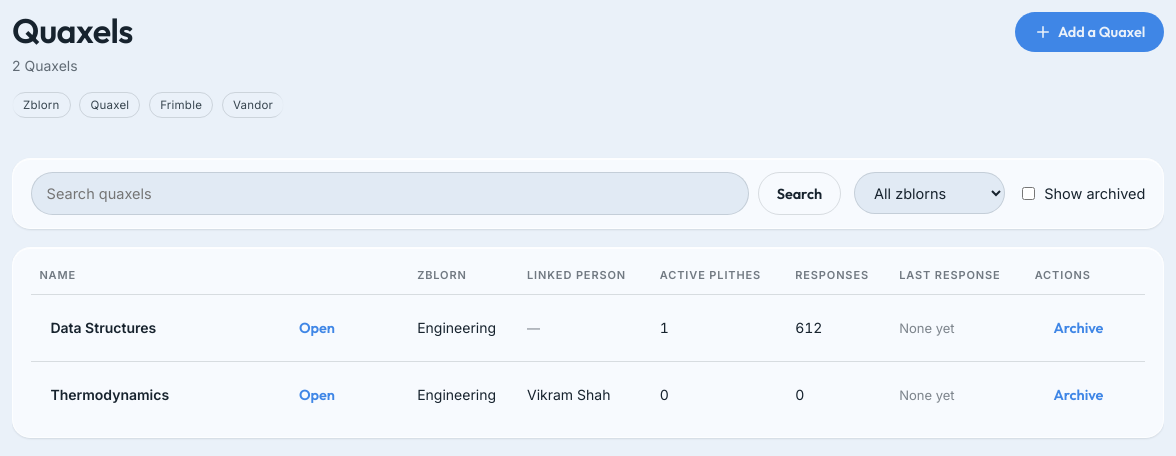
Test case: renaming › says why when it fails — the name has already been put back by the hook
The image size is (1176, 456).
Replace the text in the field showing "Data Structures" in the row of "612" with "Thermodynamics" at (155, 328), box [39,311,271,345]
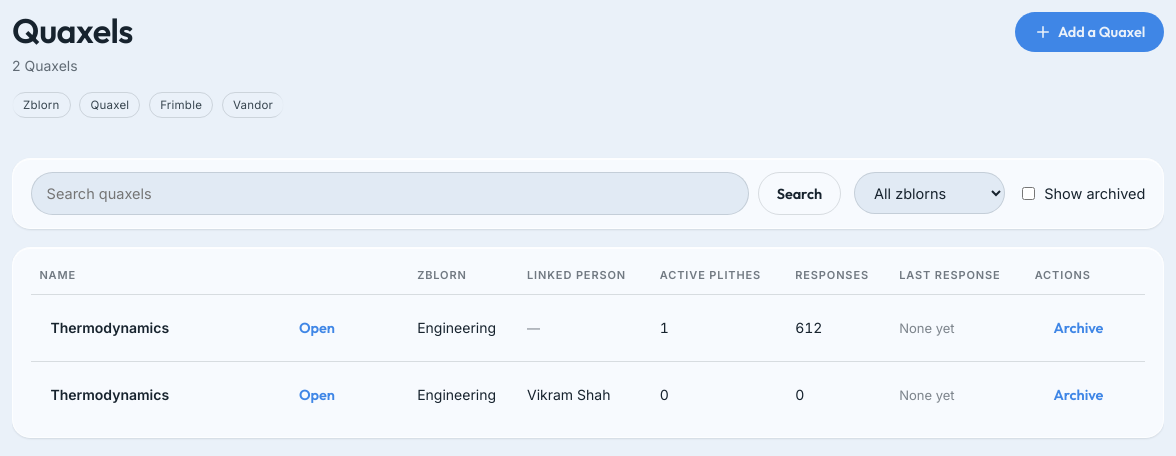
Press Enter in the field showing "Data Structures" in the row of "612", box [39,311,271,345]
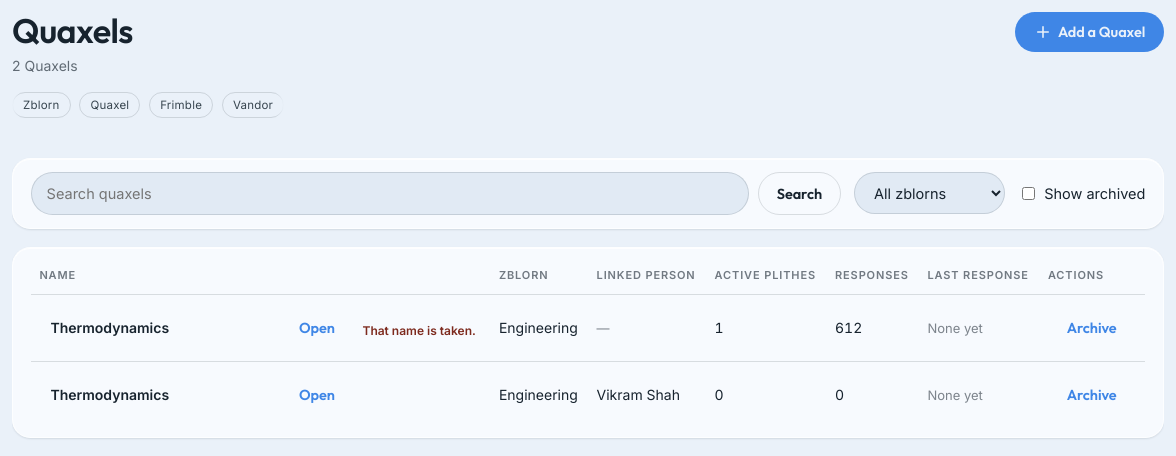
Now the message reads "That name is taken.", box [362,323,476,338]
